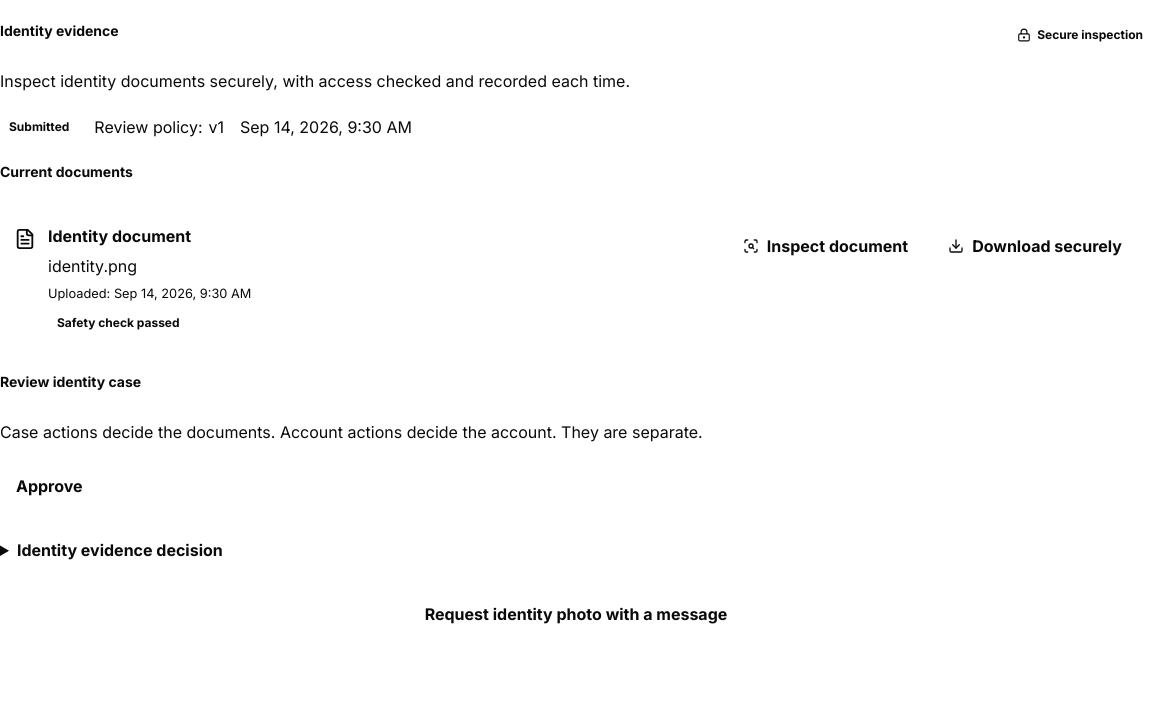
Scenario: restricted identity preview › explains en identity conflict EVIDENCE_NOT_READY while preserving the case note
The image size is (1152, 720).
Click the button with test id "review-case-approve": [49, 486] box [0,464,99,508]
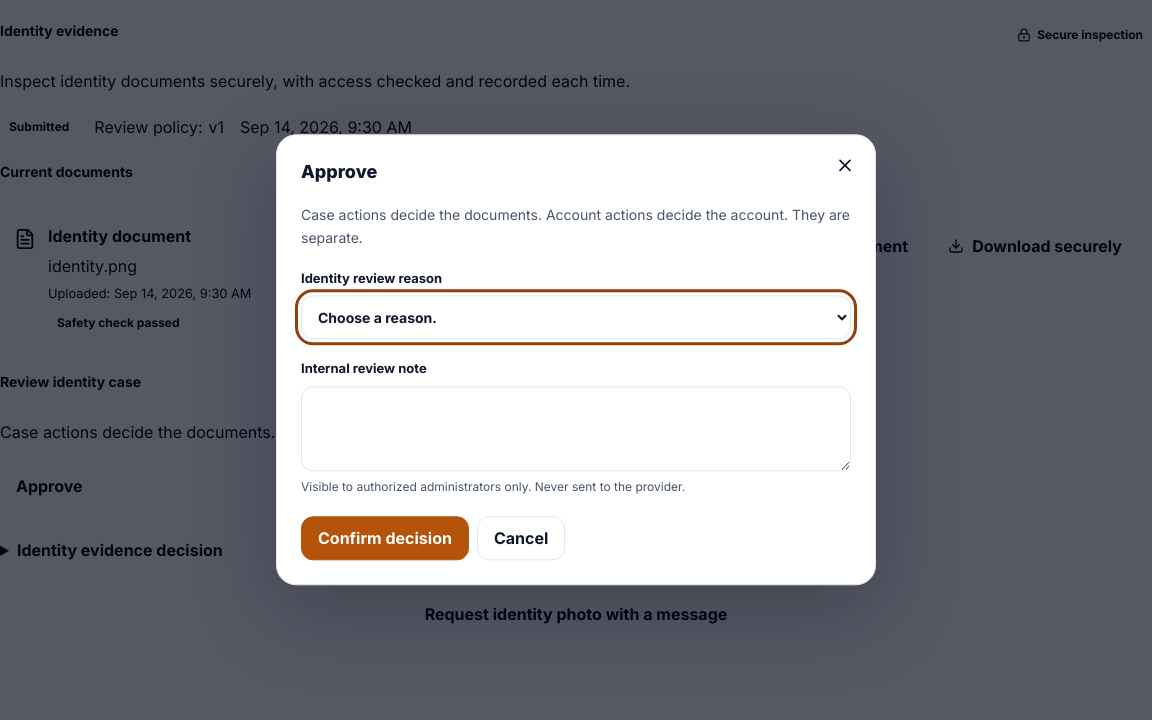
Select "Documents complete and legible" in the dropdown: [576, 318] box [301,296,851,340]
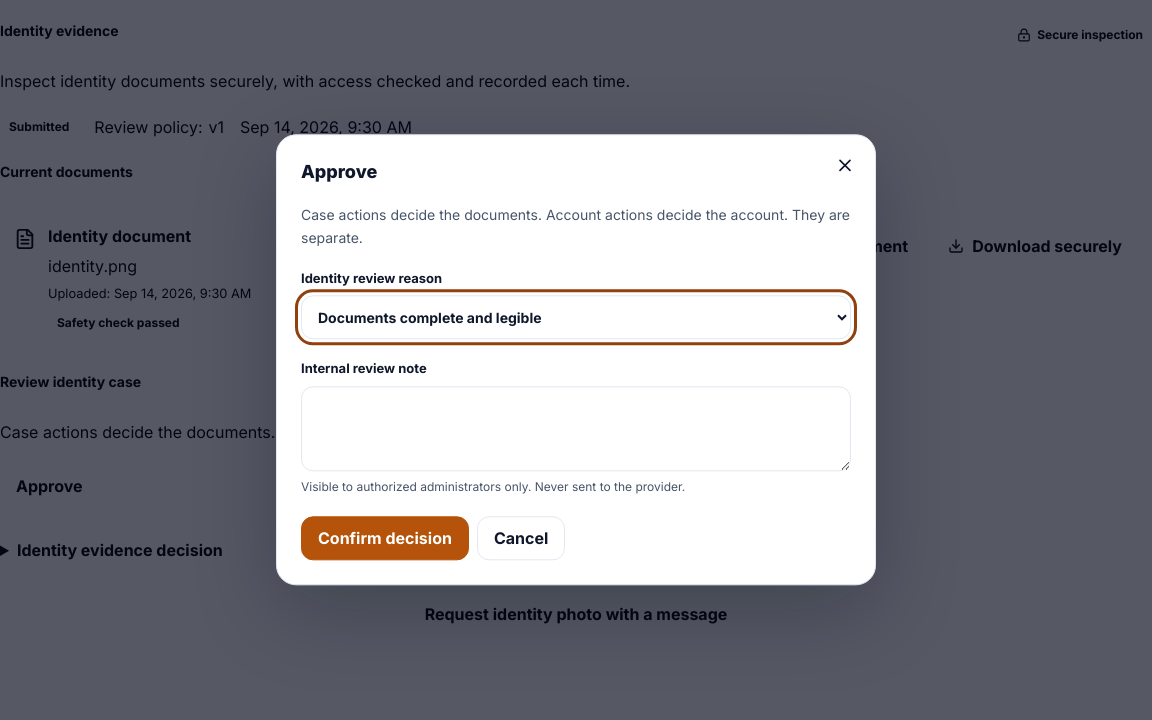
In the text box: [576, 429] box [301,386,851,471], type "Preserved case note"
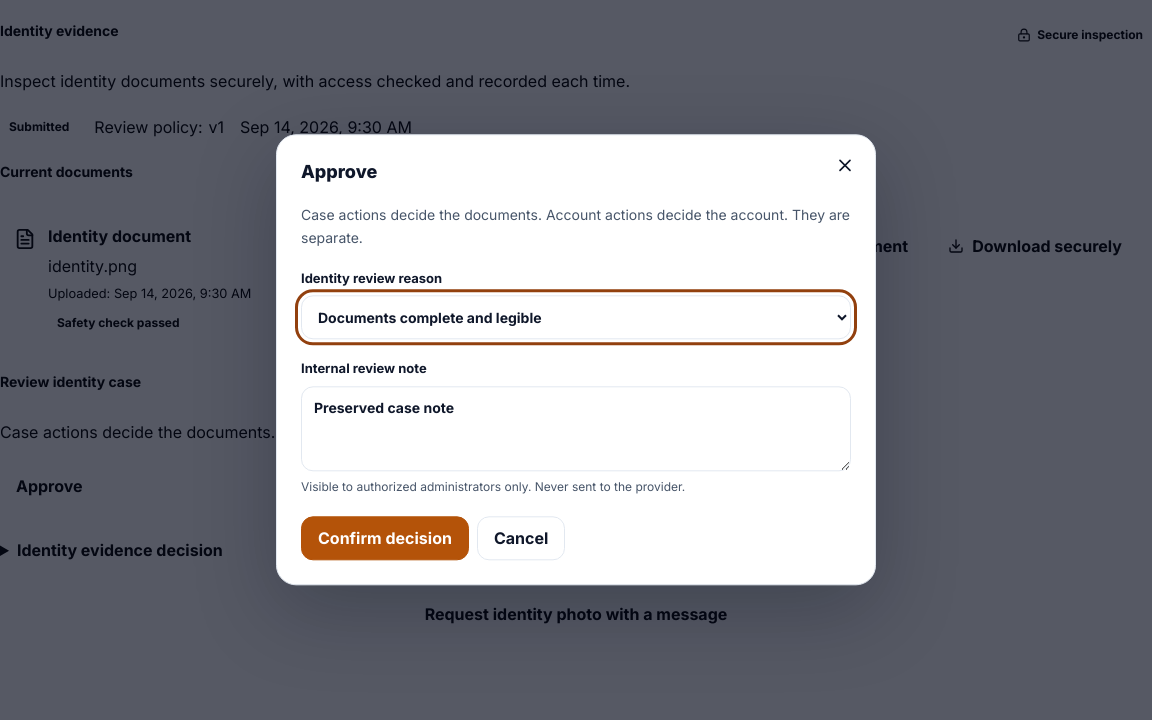
Click the button with test id "review-case-confirm": [385, 538] box [301,516,469,561]
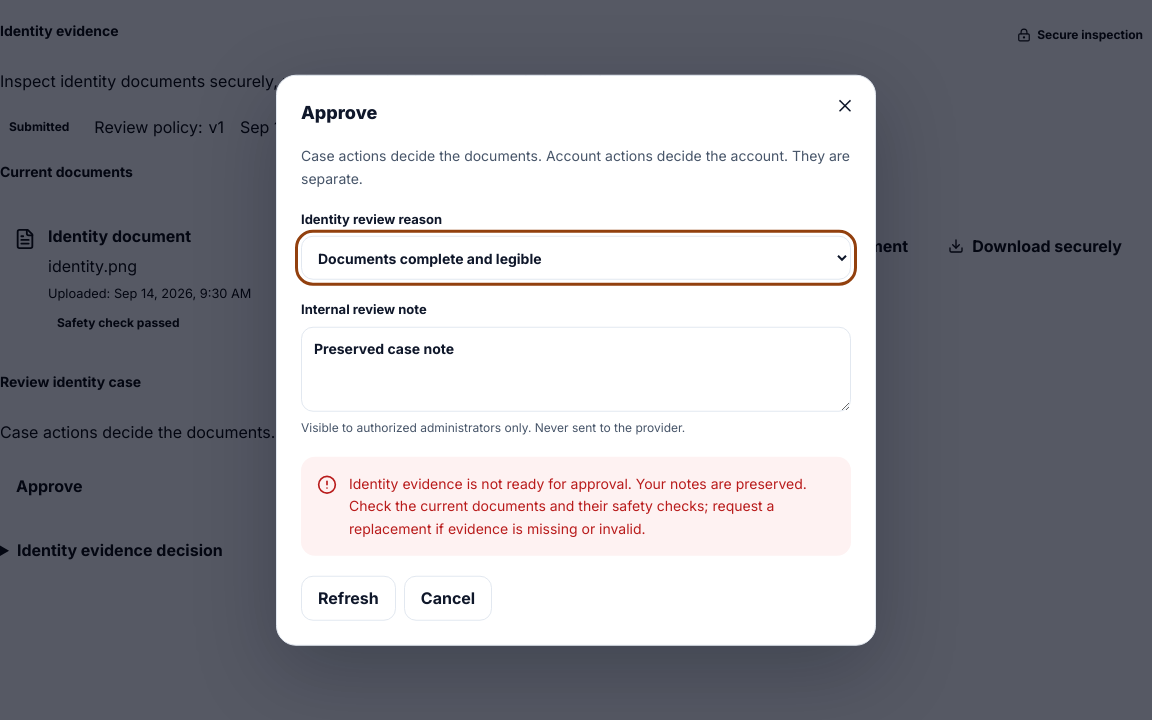
expect the message shows "Check the current documents and their safety checks": met, box [349,475,807,536]
expect the button with test id "review-case-confirm" is gone: met
